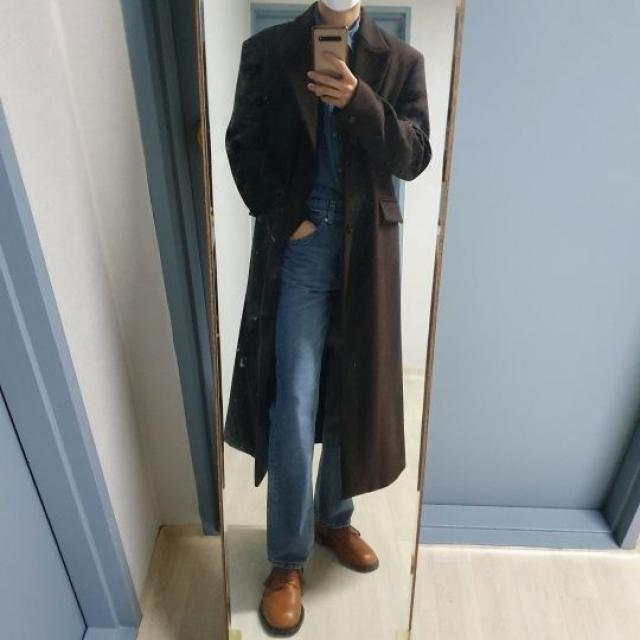coat: (224, 0, 434, 504)
denimpants: (266, 179, 352, 572)
